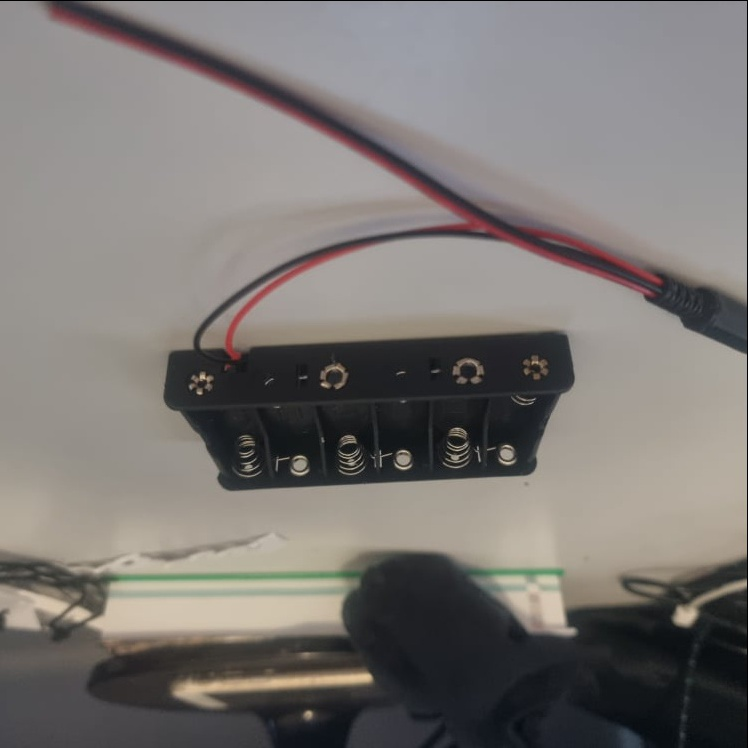BATTERY BOX: (164, 323, 577, 494)
